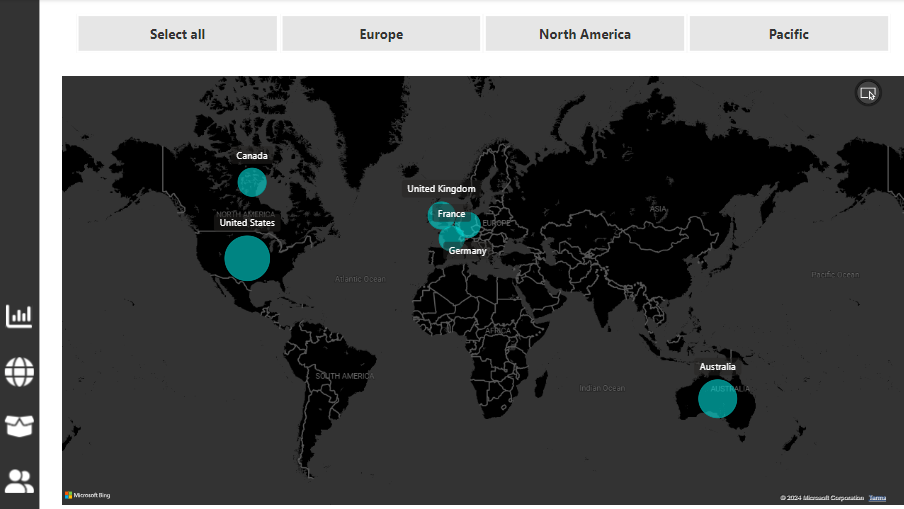

Layout of this report page (visuals, bound fields, positions):
{"tool":"powerbi","page":{"name":"Map","canvas":[1280,720],"ordinal":1},"visuals":[{"type":"shape","title":"Pages Navigator","box":[0,0,55.7,720.6],"z":0},{"type":"map","fields":{"Category":["Territory Lookup.Country"],"Size":["_measures.Total Orders"]},"box":[81.9,103.1,1198.6,616.9],"z":1000},{"type":"actionButton","title":"Exec Button","box":[5.5,416.5,45.2,63.5],"z":1000,"group":"g1"},{"type":"slicer","fields":{"Values":["Territory Lookup.Continent"]},"box":[81.9,14.1,1198.6,69.2],"z":2000},{"type":"actionButton","title":"Map Button","box":[3.4,499.3,49.4,53.6],"z":2000,"group":"g1"},{"type":"group","id":"g1","title":"Navigation tabs","box":[3.4,416.5,49.4,289.4],"z":2001},{"type":"actionButton","title":"Product Button","box":[3.4,572.3,49.4,63.5],"z":3000,"group":"g1"},{"type":"actionButton","title":"Customer Button","box":[3.4,655.1,49.4,50.8],"z":4000,"group":"g1"}]}

Visuals, with their boxes on the page's 1280x720 design canvas (x1, y1, x2, y2). These are canvas units, not pixel positions in the 904x509 screenshot, which may show the page scaled, cropped or inside an application window:
"Pages Navigator" shape: <region>0, 0, 56, 721</region>
map - Territory Lookup.Country x _measures.Total Orders: <region>82, 103, 1280, 720</region>
"Exec Button" actionButton: <region>6, 416, 51, 480</region>
slicer - Territory Lookup.Continent: <region>82, 14, 1280, 83</region>
"Map Button" actionButton: <region>3, 499, 53, 553</region>
"Navigation tabs" group: <region>3, 416, 53, 706</region>
"Product Button" actionButton: <region>3, 572, 53, 636</region>
"Customer Button" actionButton: <region>3, 655, 53, 706</region>
